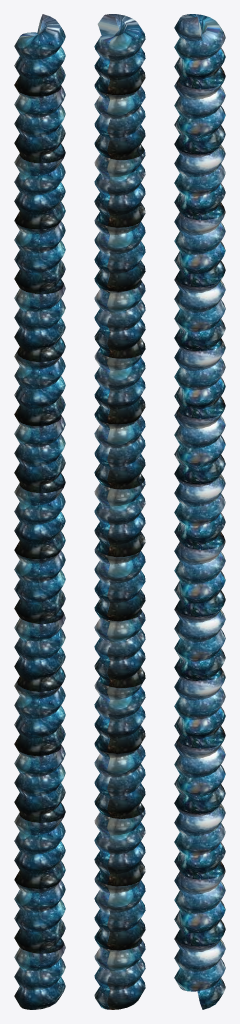
Rendered from Energy_Hock.FBX.
3 views of the same model, side by side, from view 1: azimuth 90°, elevation 25°; view 2: azimuth 150°, elevation 25°; view 3: azimuth 270°, elevation 25° (orthographic).
Parts seen in each view (by area): view 1: Spring001; view 2: Spring001; view 3: Spring001.
Part boxes in pixels (x1,y1,x2,y2): Spring001: (14, 14, 65, 1009); Spring001: (94, 14, 145, 1009); Spring001: (174, 14, 225, 1009).
Size of the model in its own units: 1.92 by 40.62 by 1.92.
